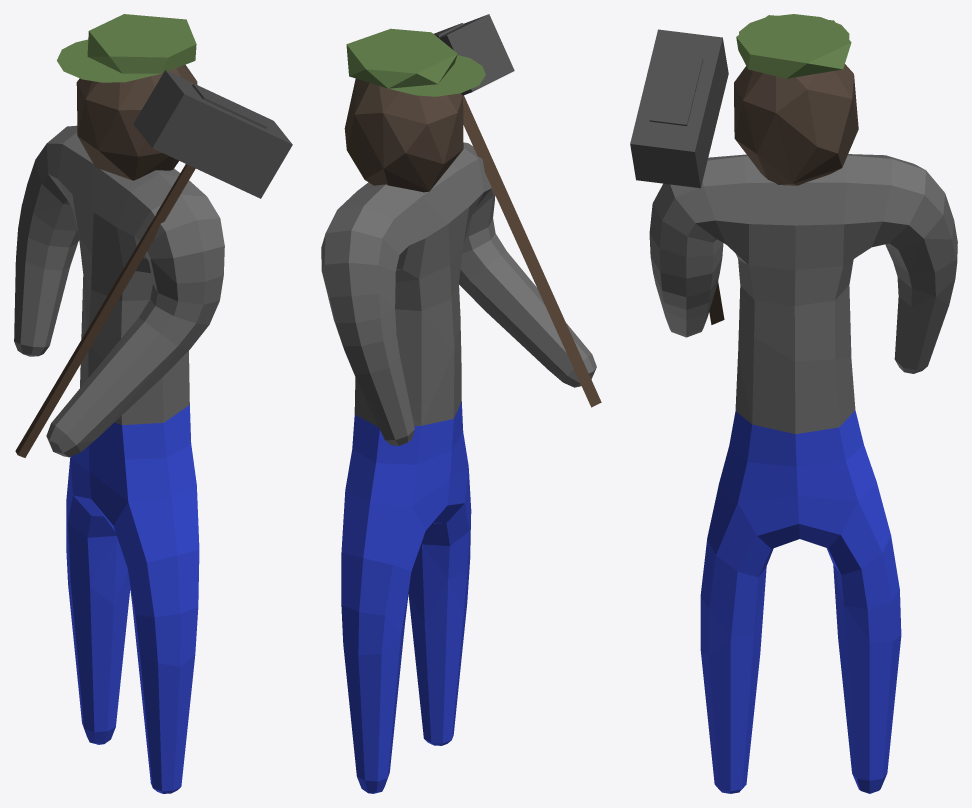
File: worker.fbx
3 renders of one model, left to right at view 1: azimuth 30°, elevation 25°; view 2: azimuth 150°, elevation 25°; view 3: azimuth 270°, elevation 25°, orthographic. The views are drawn at different scales.
Visible parts, largest first — view 1: Cube, Cube.001, Circle, Sphere, Cylinder; view 2: Cube, Sphere, Circle, Cylinder, Cube.001; view 3: Cube, Sphere, Cube.001, Circle.
Boxes of the visible parts, box(x1,y1,x2,y2) form: Cube: box(14, 125, 224, 793); Cube.001: box(133, 70, 292, 198); Circle: box(57, 14, 196, 82); Sphere: box(76, 64, 197, 180); Cylinder: box(15, 164, 195, 457); Cube: box(321, 142, 596, 793); Sphere: box(344, 78, 463, 192); Circle: box(346, 28, 485, 96); Cylinder: box(463, 95, 601, 407); Cube.001: box(434, 14, 514, 95); Cube: box(649, 154, 957, 793); Sphere: box(734, 64, 858, 185); Cube.001: box(630, 29, 728, 188); Circle: box(736, 14, 851, 78).
Bounding box in the file's own units: 148 × 417 × 163.
